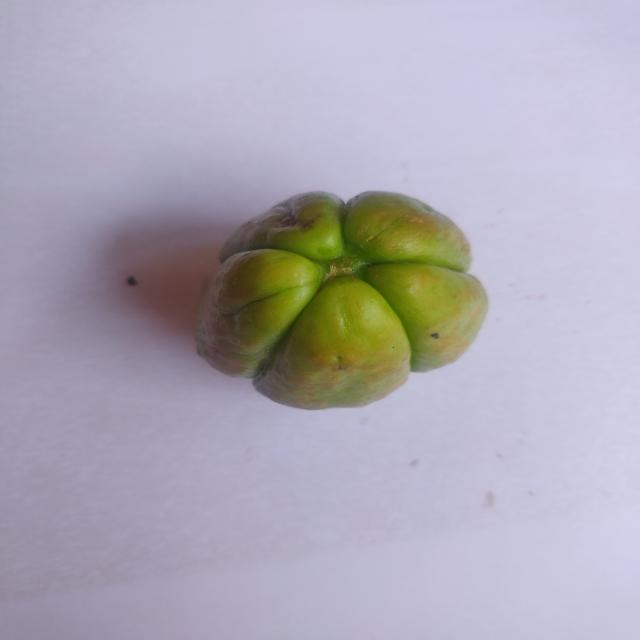Chayote: (188, 180, 501, 424)
